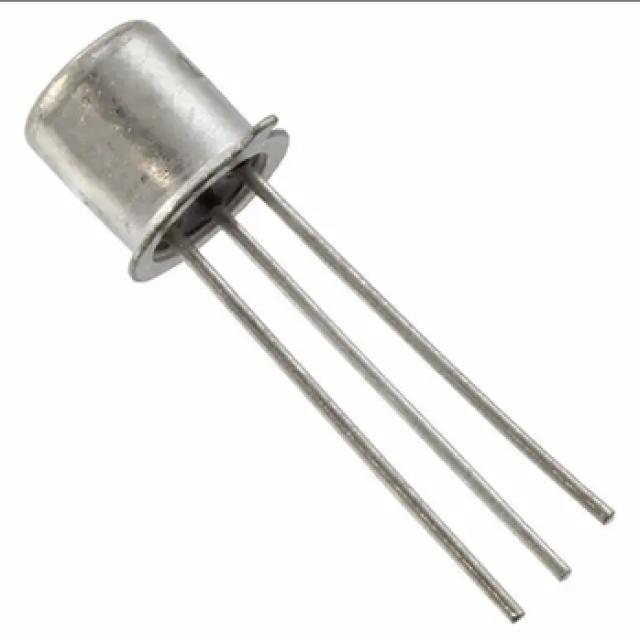Transistor: (31, 18, 578, 589)
